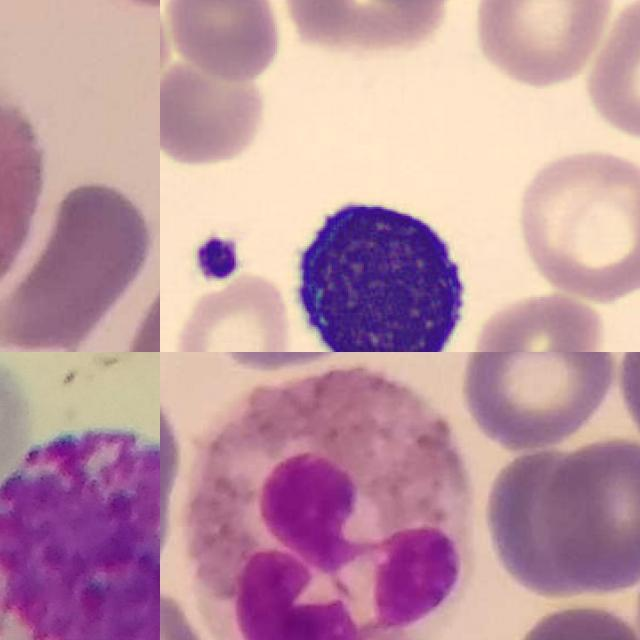Basophil: (0, 425, 160, 640)
Eosinophil: (179, 372, 479, 640), (0, 40, 44, 338)
Lymphocyte: (278, 180, 481, 352)
Platelets: (190, 232, 247, 285)
RBC: (511, 145, 640, 298), (468, 0, 616, 92), (160, 57, 268, 168), (280, 0, 499, 50), (160, 0, 287, 85), (168, 270, 294, 352), (577, 0, 640, 145), (470, 288, 605, 352)
